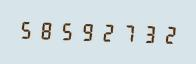eight: (37, 17, 56, 42)
five: (57, 18, 76, 43), (17, 17, 36, 41)
nine: (77, 19, 96, 43)
seven: (117, 20, 136, 45)
three: (137, 21, 156, 46)
two: (97, 19, 116, 44), (157, 22, 176, 46)
